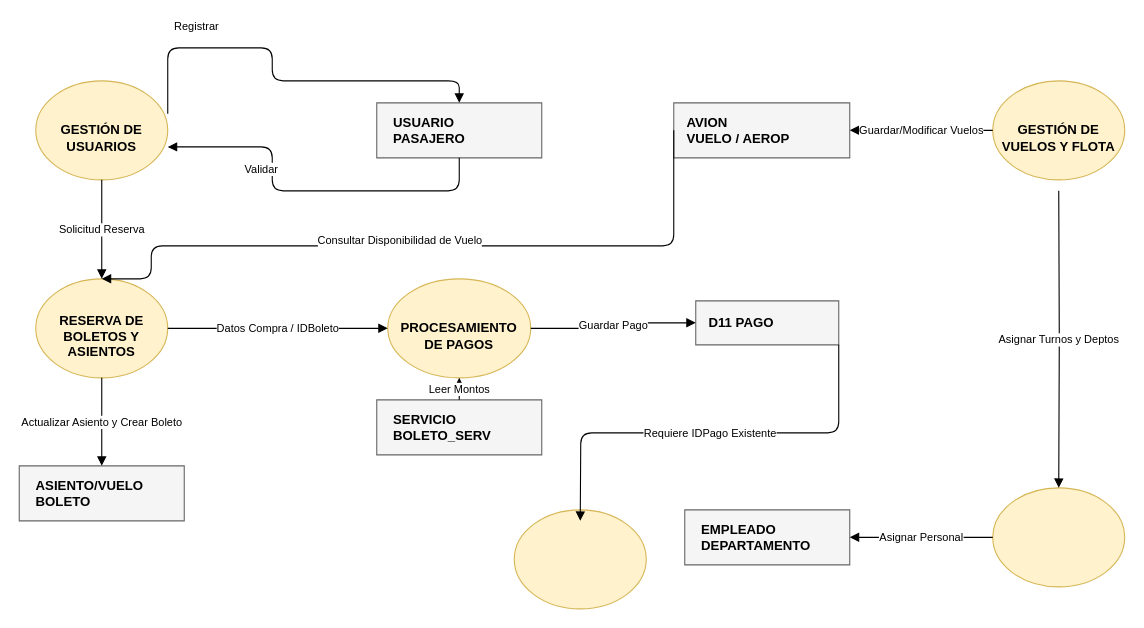
Some shapes in this 1144 by 628 pixel diagram are drawn without their labels. Here are the shapes that lost their labels. From the top down, the centre of each, then its label:
At point (1058, 537): "ASIGNACIÓN DE PERSONAL".
At point (579, 559): "CONTROL DE CHECK-IN".
